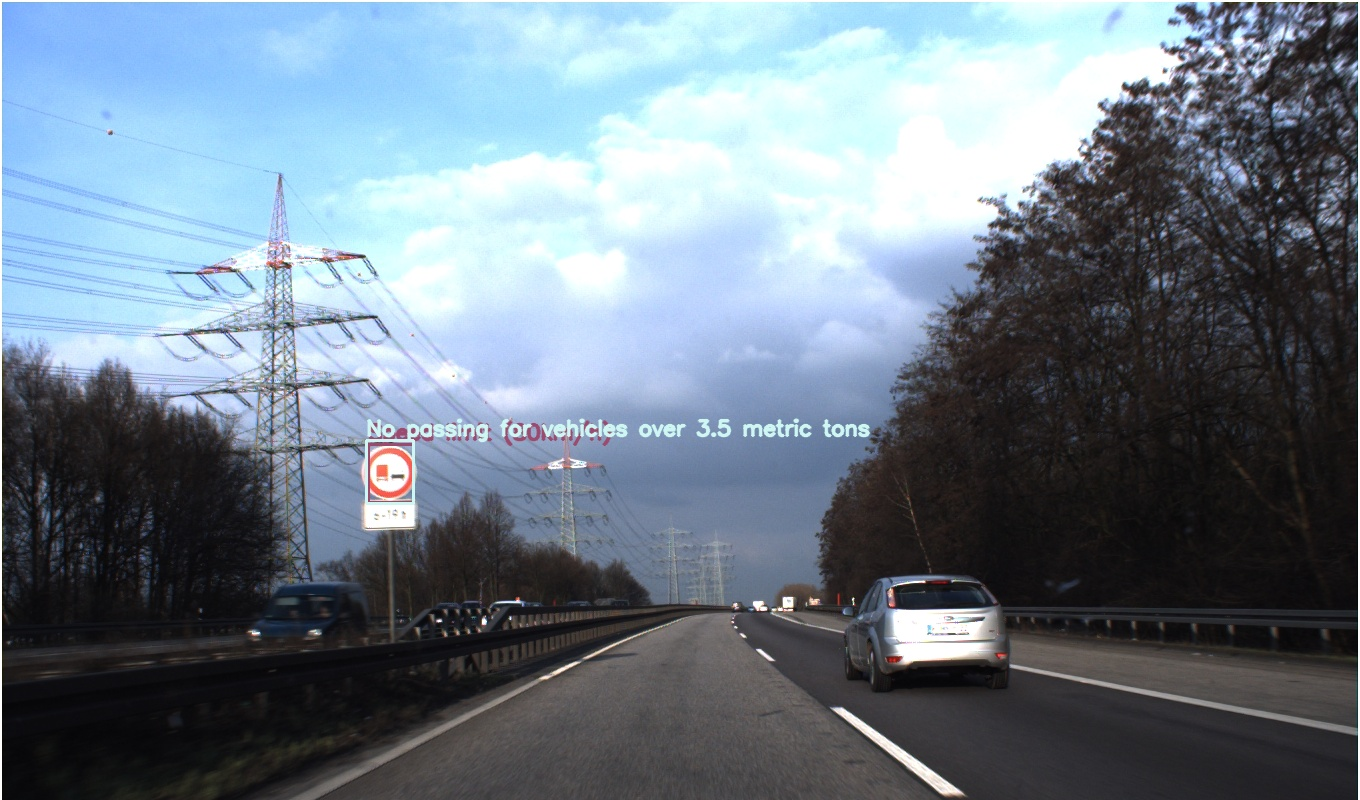Double curve: (737, 412, 769, 443)
No passing: (742, 466, 764, 489)
Speed limit (70km/h): (742, 443, 765, 466)
